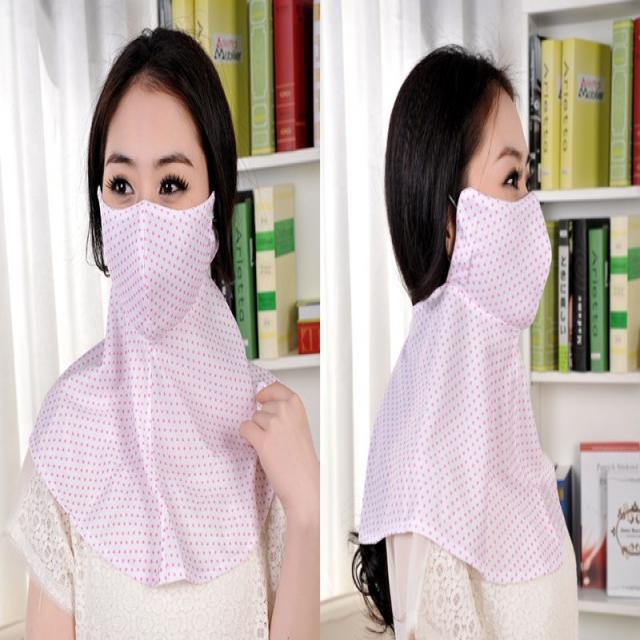mask: (102, 84, 212, 330), (462, 90, 551, 328)
